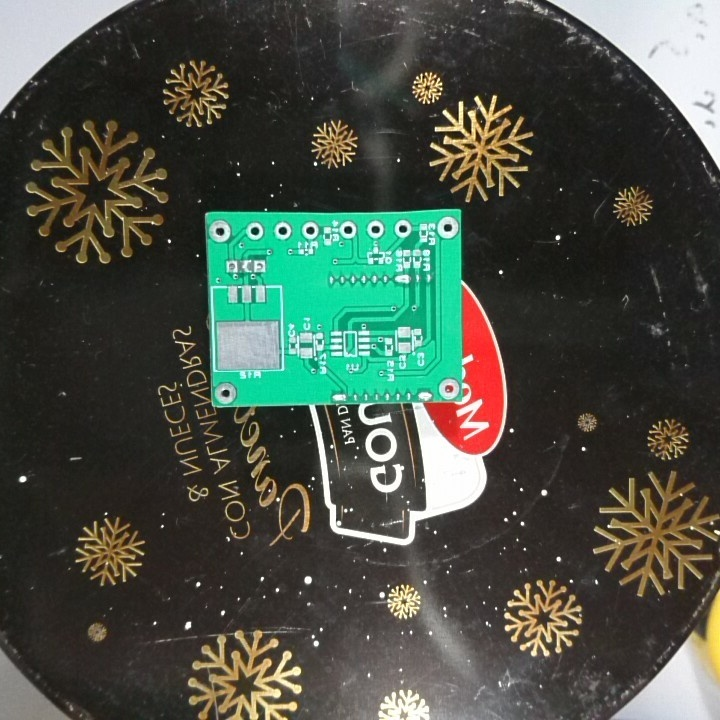F: (433, 212, 459, 242), (207, 218, 235, 245), (213, 380, 239, 405), (438, 375, 462, 400), (271, 221, 296, 243), (244, 220, 267, 242), (336, 220, 360, 241), (364, 218, 384, 241), (299, 220, 320, 240), (252, 257, 270, 275), (393, 218, 407, 241), (222, 258, 240, 275)
P: (414, 386, 436, 403), (391, 272, 413, 288), (327, 390, 349, 405)
